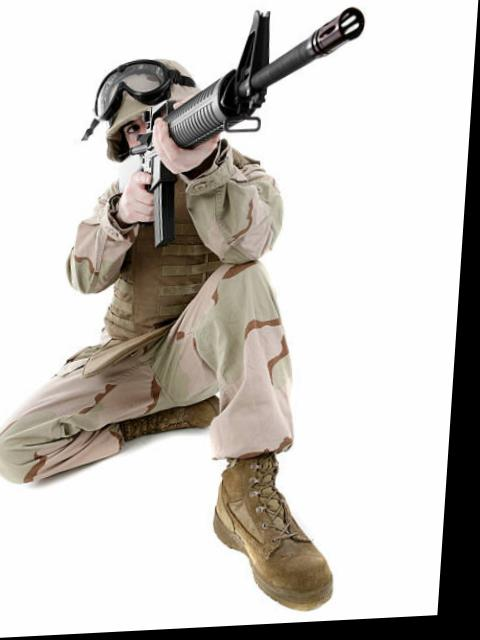other: (0, 52, 365, 614)
